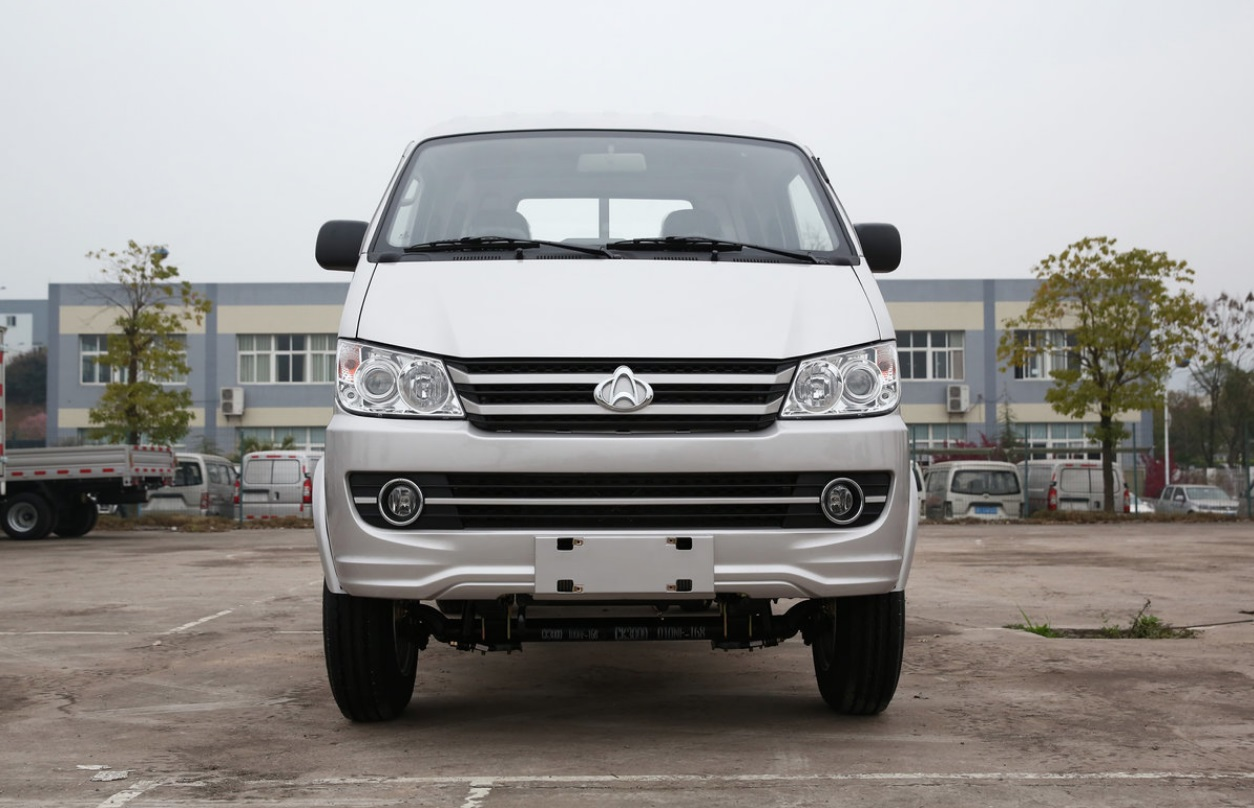truck: (310, 111, 934, 733)
